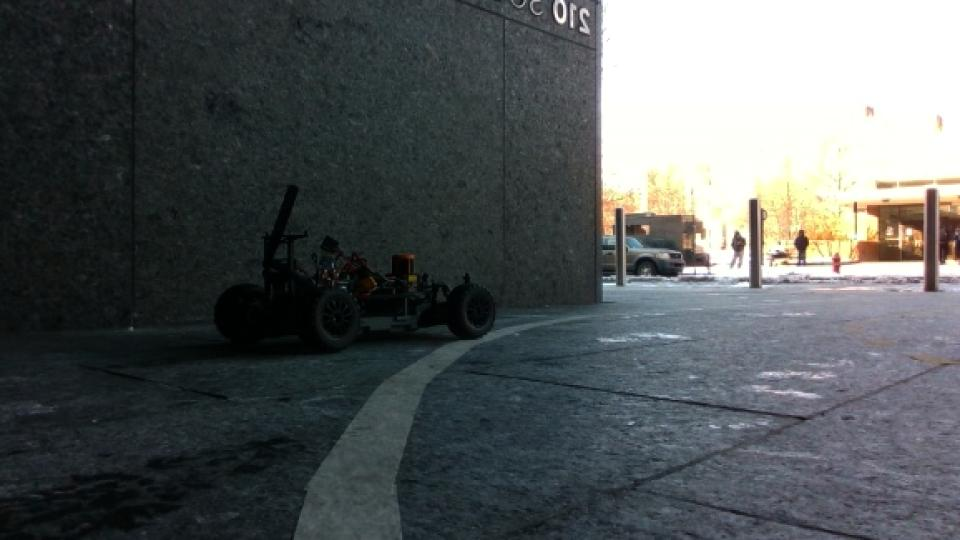car: (211, 182, 500, 355)
